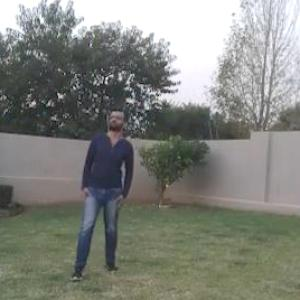follow: (76, 100, 137, 276)
